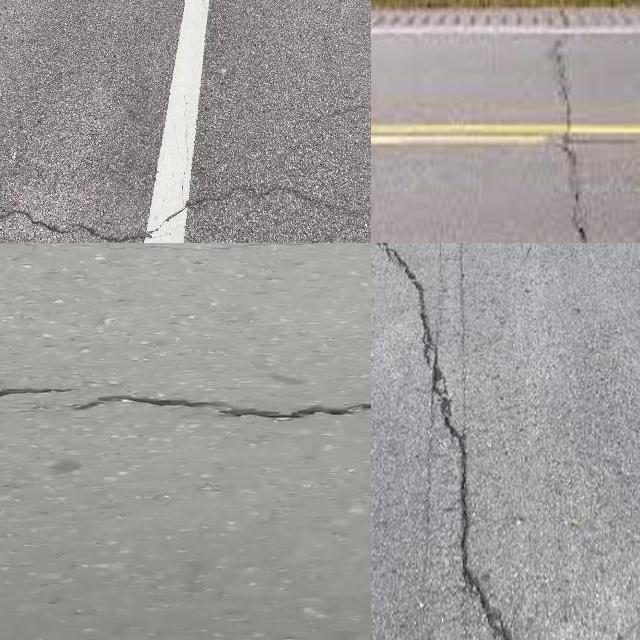Melintang: (0, 178, 371, 243), (65, 388, 371, 434), (0, 374, 76, 406)
Memanjang: (371, 243, 525, 640), (536, 35, 609, 243)
